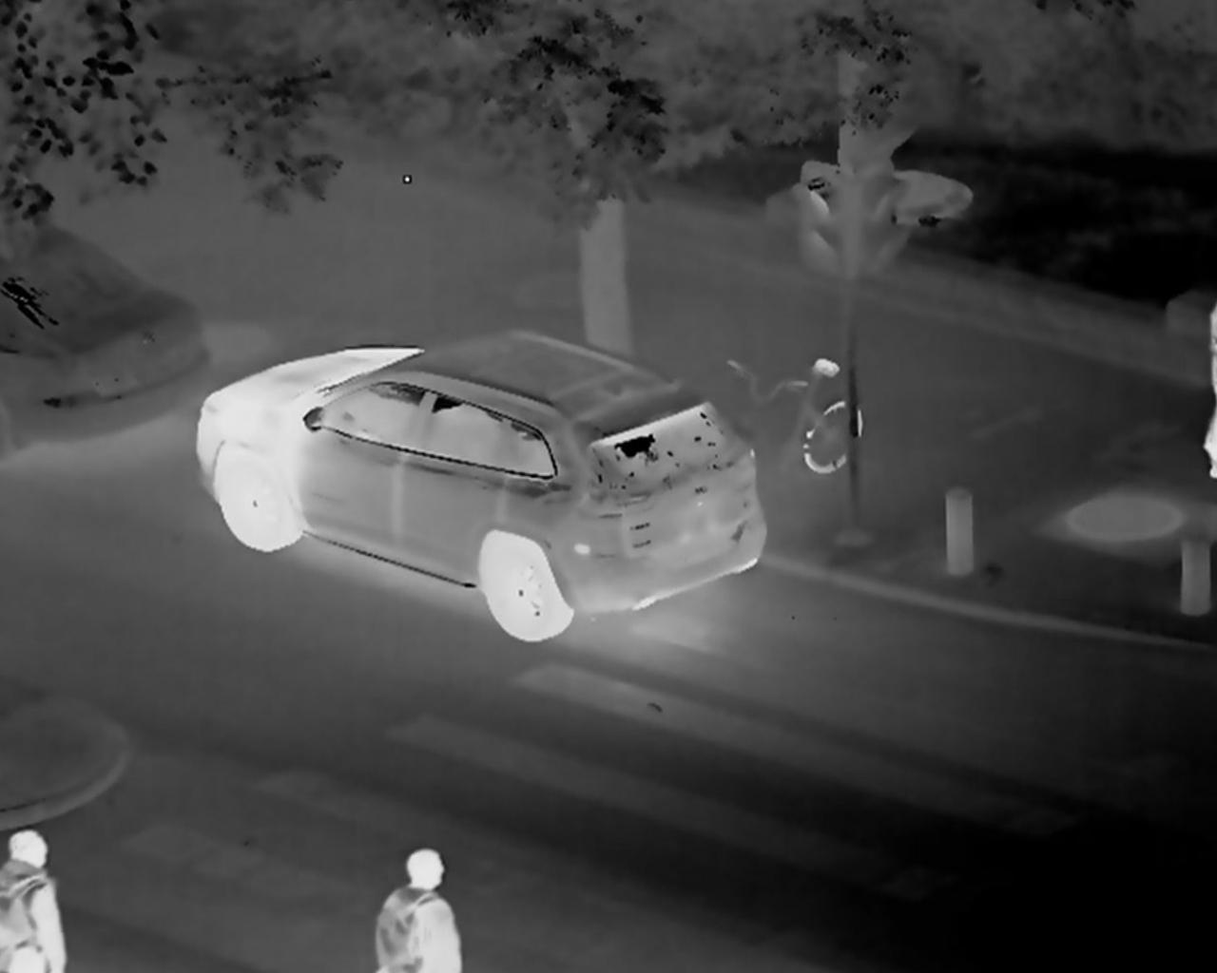person: (373, 848, 467, 973)
